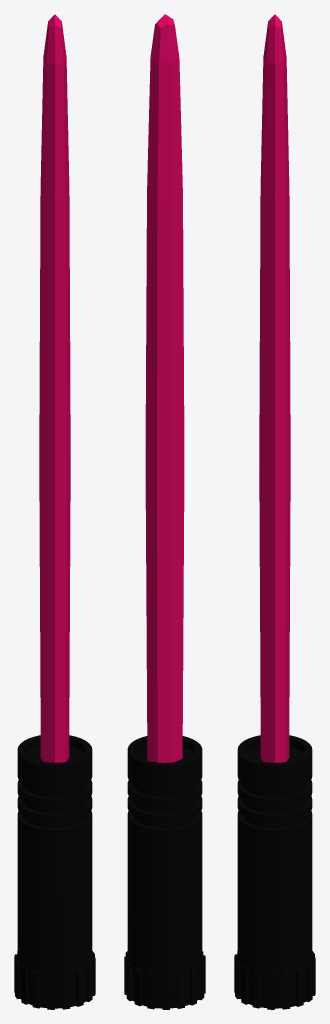
The model's file is lighter butek.fbx.
3 views of the same model, side by side, from view 1: azimuth 90°, elevation 25°; view 2: azimuth 210°, elevation 25°; view 3: azimuth 270°, elevation 25° (orthographic).
Visible parts, largest first — view 1: Cylinder; view 2: Cylinder; view 3: Cylinder.
Boxes of the visible parts, x1,y1,x2,y2 form: Cylinder: [14, 14, 95, 1009]; Cylinder: [124, 14, 205, 1009]; Cylinder: [234, 14, 315, 1009].
Bounding box in the file's own units: 217 × 2883 × 217.
